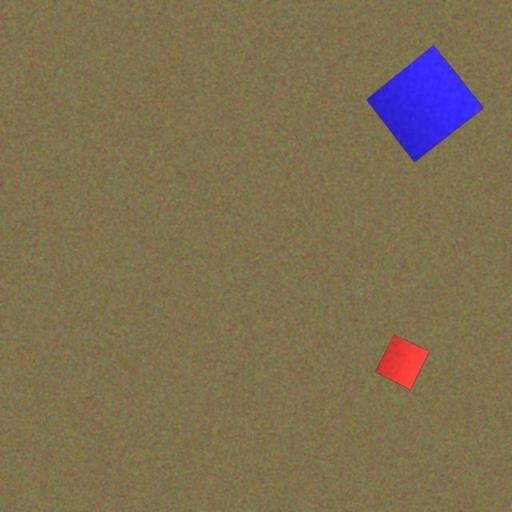BLUE_SQUARE: (366, 44, 484, 162)
RED_SQUARE: (374, 334, 430, 390)
